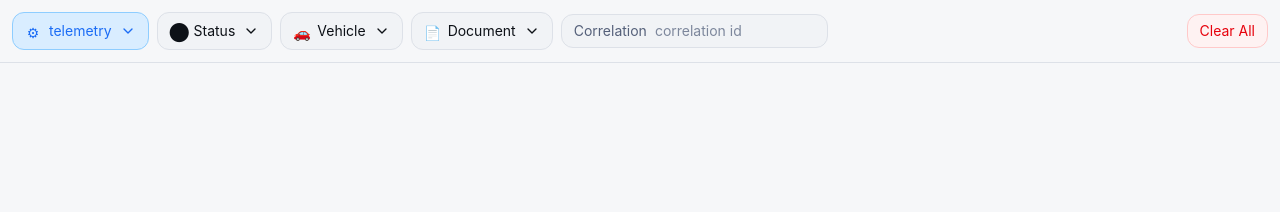
Test: Workflow Monitor filter dropdowns › resets the filter when the placeholder option is chosen
Click the button with aria-label "filter by workflow" at (80, 31), box [12, 12, 148, 50]
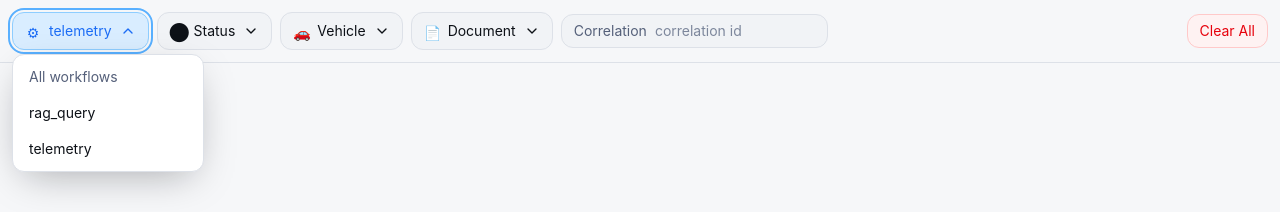
Click the button "All workflows" at (108, 77), box [17, 59, 199, 95]
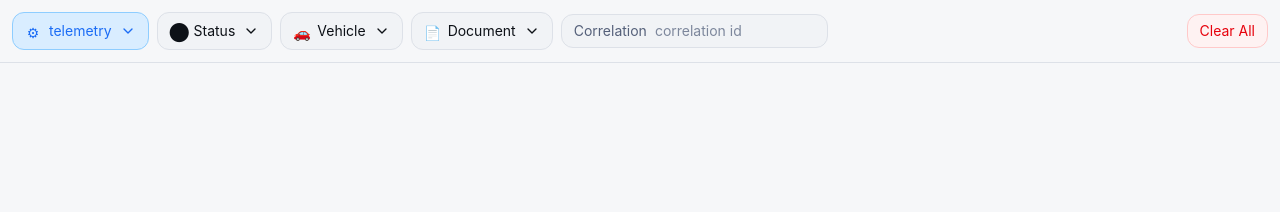
Now the button "All workflows" is gone
